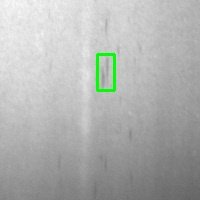inclusion: (97, 54, 114, 90)
